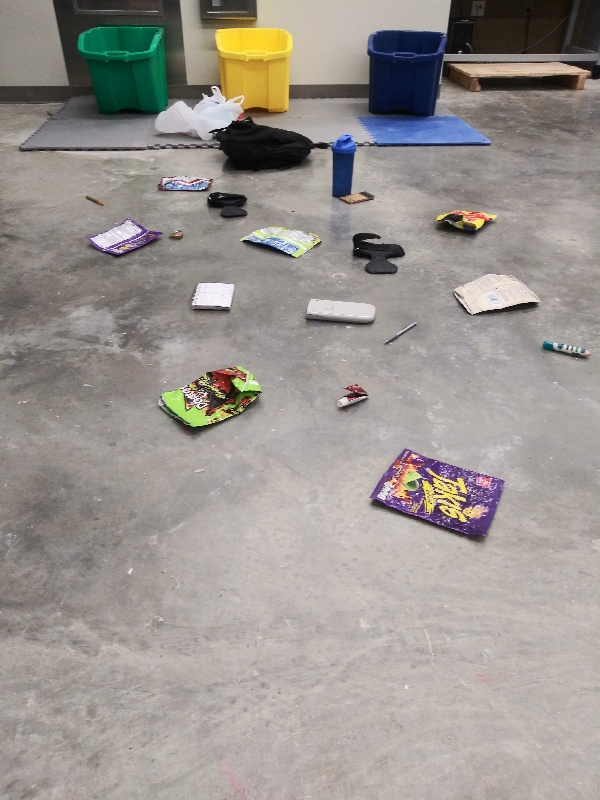bag: (368, 444, 508, 545), (149, 359, 266, 439), (446, 268, 548, 316), (81, 216, 166, 262), (236, 224, 326, 259), (427, 206, 501, 237), (149, 168, 218, 197)
